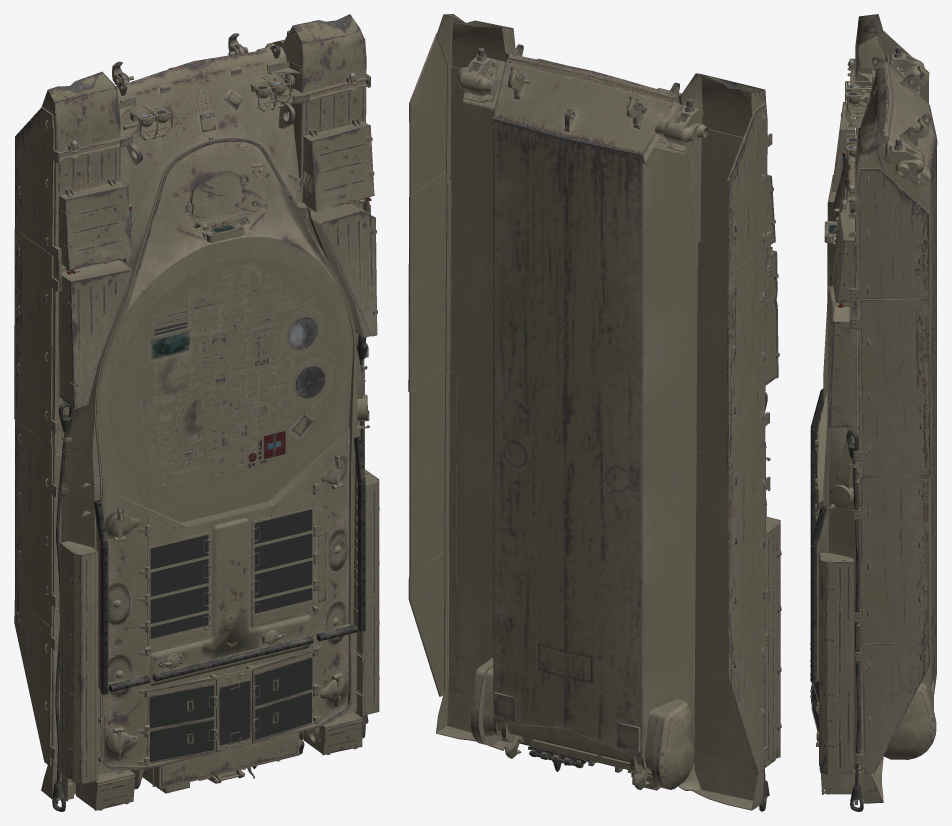
The model's file is Hull.glb.
The picture shows the model from 3 angles, left to right: view 1: azimuth 30°, elevation 25°; view 2: azimuth 150°, elevation 25°; view 3: azimuth 270°, elevation 25°; orthographic projection. The views are drawn at different scales.
Parts seen in each view (by area): view 1: set_0_group_0; view 2: set_0_group_0; view 3: set_0_group_0.
Part boxes in pixels (box(x1,y1,x2,y2)): set_0_group_0: box(14, 14, 379, 811); set_0_group_0: box(408, 14, 781, 811); set_0_group_0: box(810, 14, 937, 811).
Bounding box in the file's own units: 3.49 × 7.55 × 1.3.
1 material, 1 textured.
